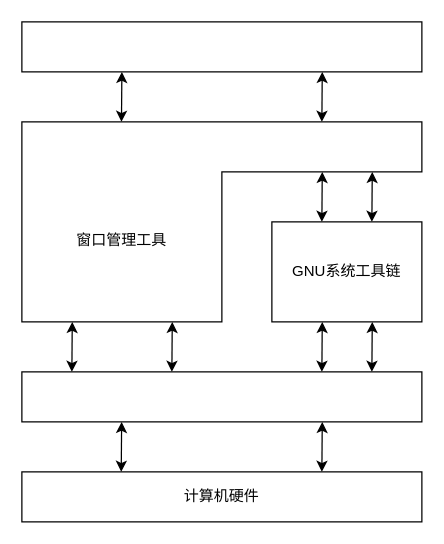
The diagram is 444 pixels wide and 544 high, and some of its shapes have lost their labels. The box of each missing label's shape, as (x1, y1, x2, y2) in pixels:
Linux内核: (21, 371, 422, 422)
应用软件: (21, 21, 422, 72)
